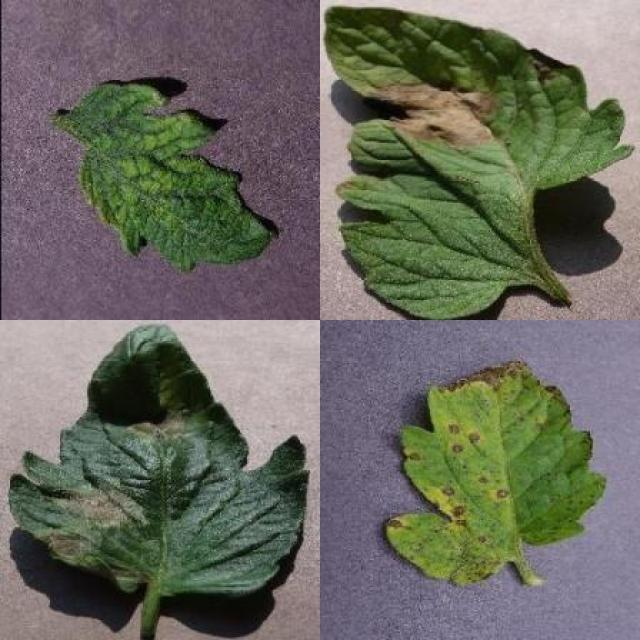Late Blight: (324, 5, 634, 321), (6, 322, 311, 598)
Mosaic Virus: (71, 79, 276, 274)
Septoria: (383, 358, 608, 585)
